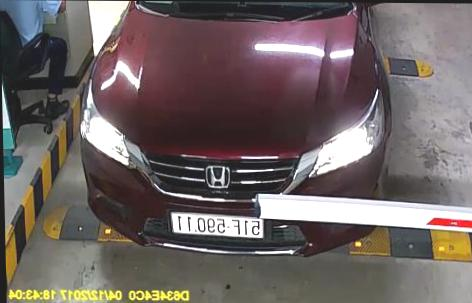License_Plate: (169, 206, 264, 242)
